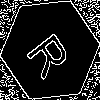R: (25, 25, 79, 82)
